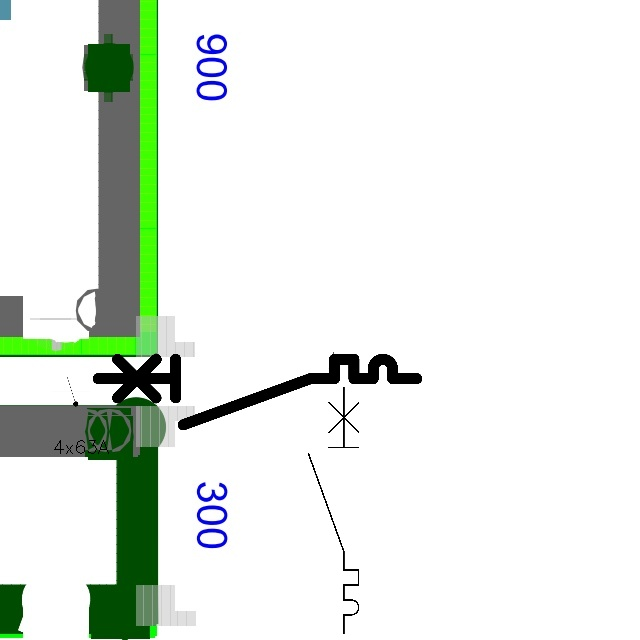interruptor_termomagnetico: (89, 351, 424, 433), (302, 381, 365, 640)
